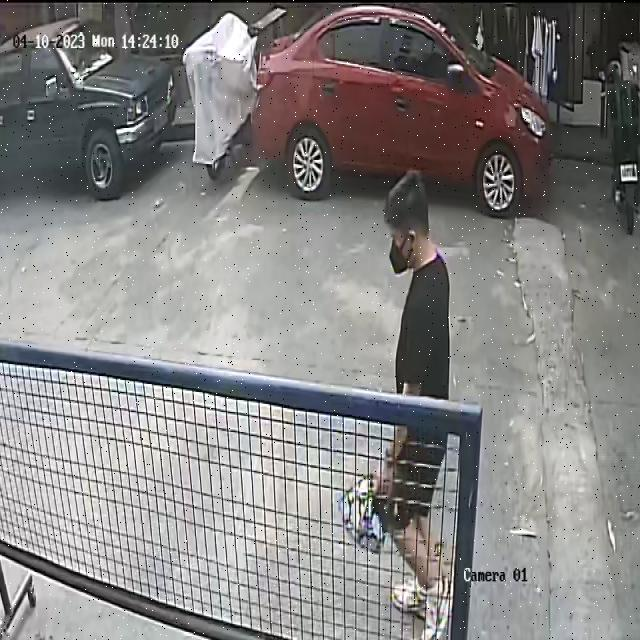human: (340, 169, 453, 640)
trash: (339, 461, 394, 554)
